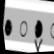correct: (2, 15, 14, 38)
no answer: (16, 16, 30, 39), (47, 20, 54, 41)
not correct: (28, 14, 48, 52)
